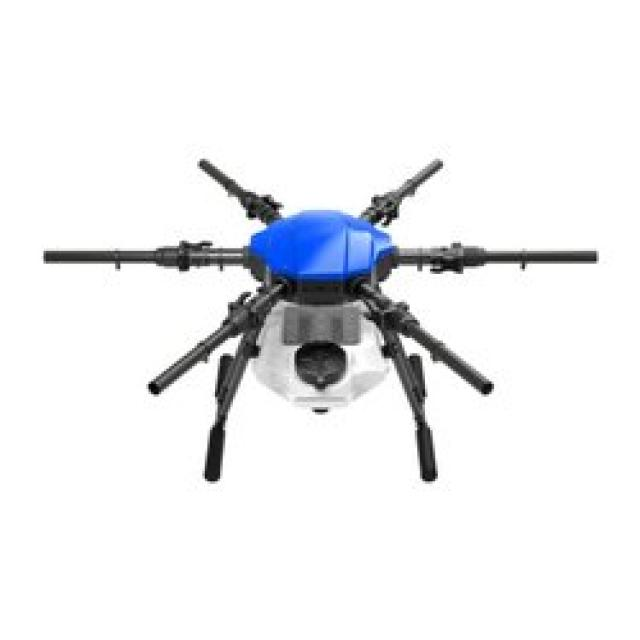drone: (6, 136, 640, 478)
